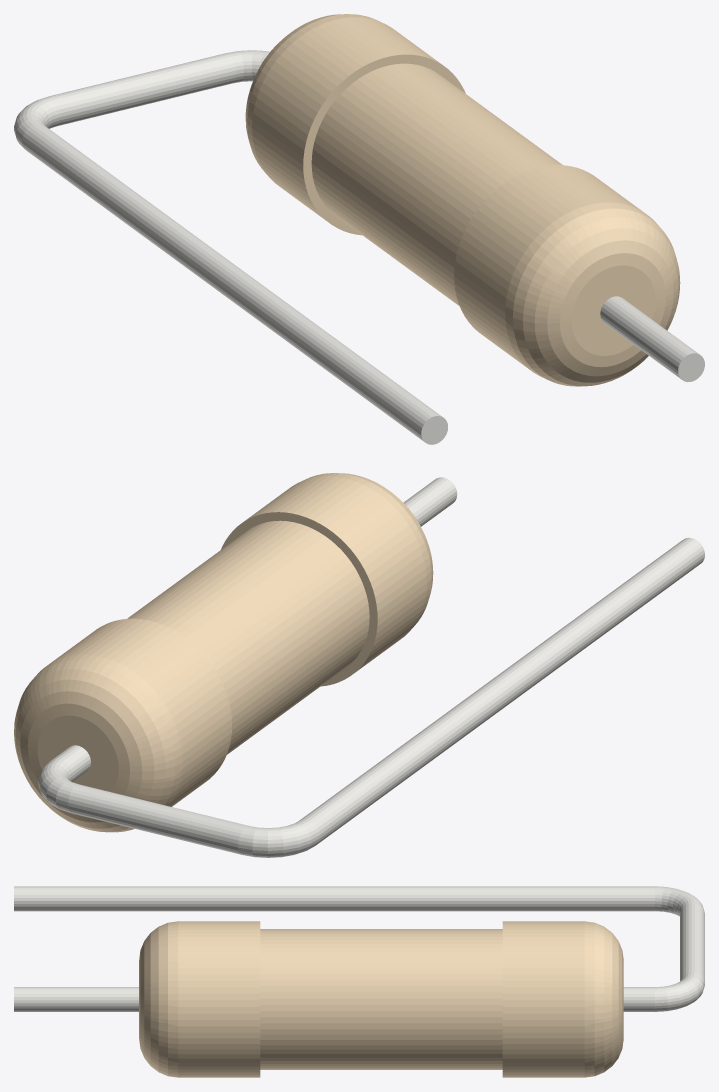
File: R_Axial_DIN0516_L15.5mm_D5.0mm_P7.62mm_Vertical.glb
The picture shows the model from 3 angles, top to bottom: view 1: azimuth 30°, elevation 25°; view 2: azimuth 150°, elevation 25°; view 3: azimuth 270°, elevation 25°; orthographic projection. The views are drawn at different scales.
Parts seen in each view (by area): view 1: Shape_IndexedFaceSet.004, Shape_IndexedFaceSet.001, Shape_IndexedFaceSet.015, Shape_IndexedFaceSet.008, Shape_IndexedFaceSet, Shape_IndexedFaceSet.013, Shape_IndexedFaceSet.003, Shape_IndexedFaceSet.005, Shape_IndexedFaceSet.006, Shape_IndexedFaceSet.009, Shape_IndexedFaceSet.014, Shape_IndexedFaceSet.012; view 2: Shape_IndexedFaceSet.004, Shape_IndexedFaceSet.009, Shape_IndexedFaceSet.015, Shape_IndexedFaceSet, Shape_IndexedFaceSet.008, Shape_IndexedFaceSet.013, Shape_IndexedFaceSet.010, Shape_IndexedFaceSet.002, Shape_IndexedFaceSet.014, Shape_IndexedFaceSet.001, Shape_IndexedFaceSet.005, Shape_IndexedFaceSet.012 (+1 smaller); view 3: Shape_IndexedFaceSet.004, Shape_IndexedFaceSet.015, Shape_IndexedFaceSet, Shape_IndexedFaceSet.008, Shape_IndexedFaceSet.001, Shape_IndexedFaceSet.009, Shape_IndexedFaceSet.005, Shape_IndexedFaceSet.013, Shape_IndexedFaceSet.012, Shape_IndexedFaceSet.014, Shape_IndexedFaceSet.011.
Boxes of the visible parts, x1,y1,x2,y2 form: Shape_IndexedFaceSet.004: (311,63,562,305); Shape_IndexedFaceSet.001: (505,202,680,386); Shape_IndexedFaceSet.015: (22,124,442,441); Shape_IndexedFaceSet.008: (252,17,441,220); Shape_IndexedFaceSet: (454,165,642,368); Shape_IndexedFaceSet.013: (50,53,236,126); Shape_IndexedFaceSet.003: (571,265,655,355); Shape_IndexedFaceSet.005: (600,296,699,379); Shape_IndexedFaceSet.006: (303,54,465,235); Shape_IndexedFaceSet.009: (245,14,379,176); Shape_IndexedFaceSet.014: (14,96,60,148); Shape_IndexedFaceSet.012: (226,50,269,83); Shape_IndexedFaceSet.004: (127,520,369,754); Shape_IndexedFaceSet.009: (14,654,182,832); Shape_IndexedFaceSet.015: (299,537,704,844); Shape_IndexedFaceSet: (244,476,426,672); Shape_IndexedFaceSet.008: (50,618,232,806); Shape_IndexedFaceSet.013: (68,784,248,854); Shape_IndexedFaceSet.010: (37,715,118,791); Shape_IndexedFaceSet.002: (221,512,377,686); Shape_IndexedFaceSet.014: (238,819,319,857); Shape_IndexedFaceSet.001: (305,473,433,630); Shape_IndexedFaceSet.005: (403,477,457,526); Shape_IndexedFaceSet.012: (38,759,78,812); Shape_IndexedFaceSet.004: (260,929,502,1069); Shape_IndexedFaceSet.015: (14,886,654,911); Shape_IndexedFaceSet: (178,921,260,1077); Shape_IndexedFaceSet.008: (502,921,584,1077); Shape_IndexedFaceSet.001: (139,921,178,1077); Shape_IndexedFaceSet.009: (584,921,623,1077); Shape_IndexedFaceSet.005: (14,987,138,1011); Shape_IndexedFaceSet.013: (680,903,704,981); Shape_IndexedFaceSet.012: (655,972,704,1011); Shape_IndexedFaceSet.014: (655,886,703,916); Shape_IndexedFaceSet.011: (623,987,654,1011).
Bounding box in the file's own units: 4.14 × 1.97 × 8.7.
